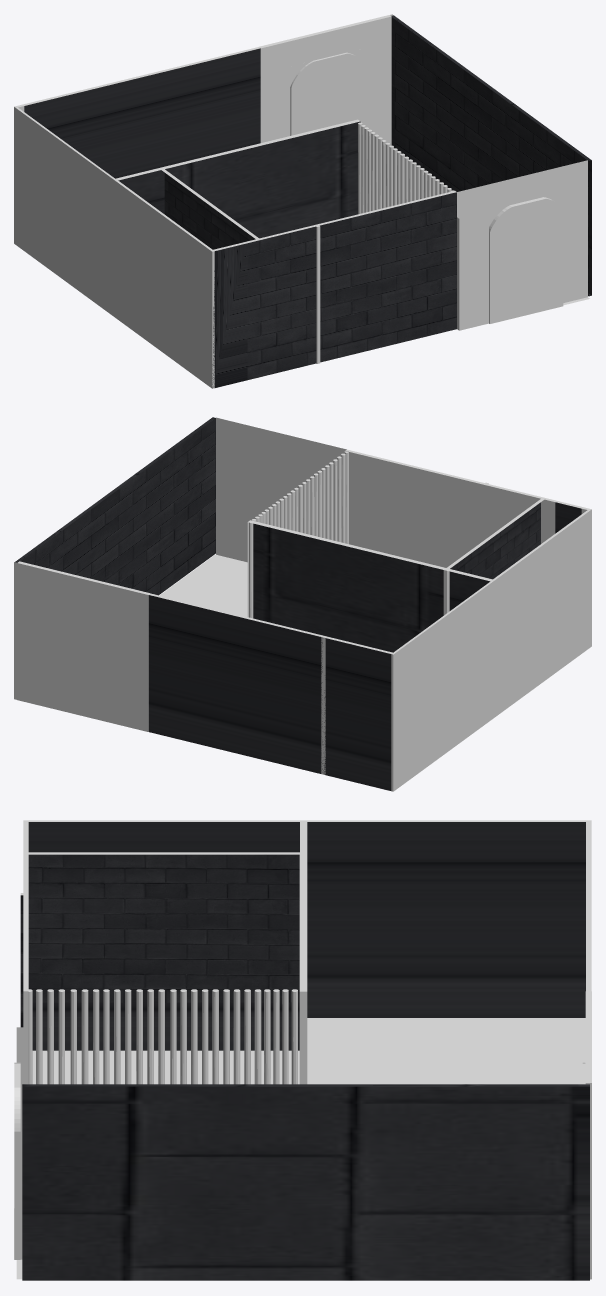
The model's file is sala_2.fbx.
3 views of the same model, one above another, from view 1: azimuth 30°, elevation 25°; view 2: azimuth 150°, elevation 25°; view 3: azimuth 270°, elevation 25° (orthographic). The views are drawn at different scales.
Parts seen in each view (by area): view 1: paredes, puerta sala, barra carcel 3; view 2: paredes, barra carcel 3; view 3: paredes, barra carcel 3, puerta sala.
Part boxes in pixels (bbox=[...]): paredes: bbox=[14, 14, 591, 388]; puerta sala: bbox=[290, 52, 563, 323]; barra carcel 3: bbox=[358, 122, 454, 214]; paredes: bbox=[14, 417, 591, 791]; barra carcel 3: bbox=[249, 451, 348, 618]; paredes: bbox=[14, 820, 591, 1280]; barra carcel 3: bbox=[28, 989, 297, 1084]; puerta sala: bbox=[14, 1062, 585, 1259].
Bounding box in the file's own units: 579 × 200 × 534.
